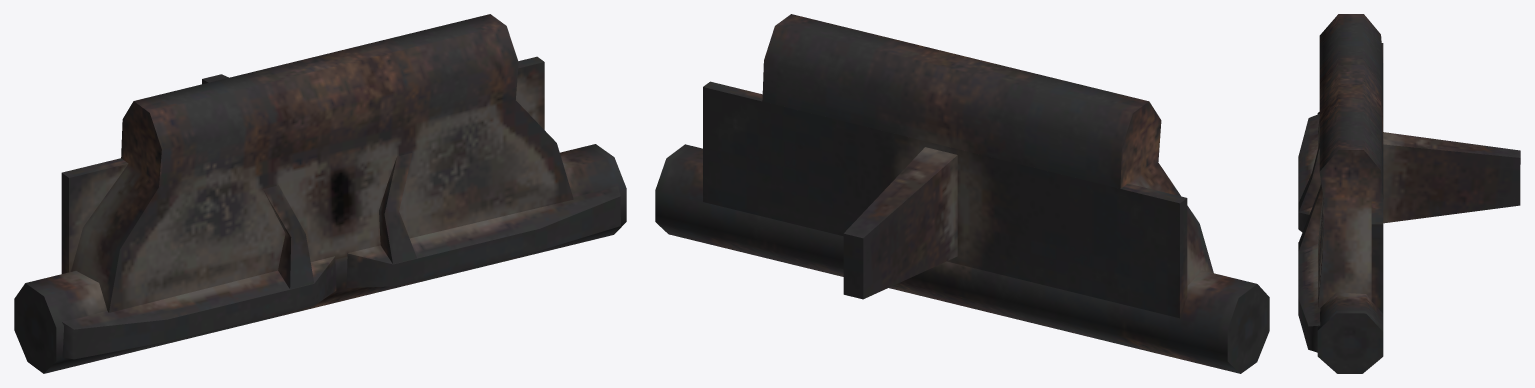
The picture shows the model from 3 angles, left to right: view 1: azimuth 30°, elevation 25°; view 2: azimuth 150°, elevation 25°; view 3: azimuth 270°, elevation 25°; orthographic projection. The views are drawn at different scales.
Parts seen in each view (by area): view 1: set_0_group_0; view 2: set_0_group_0; view 3: set_0_group_0.
Boxes of the visible parts, box(x1,y1,x2,y2) form: set_0_group_0: box(14, 14, 626, 373); set_0_group_0: box(655, 14, 1269, 373); set_0_group_0: box(1298, 14, 1520, 373).
Size of the model in its own units: 0.4123 by 0.1619 by 0.1778.
1 material, 1 textured.
